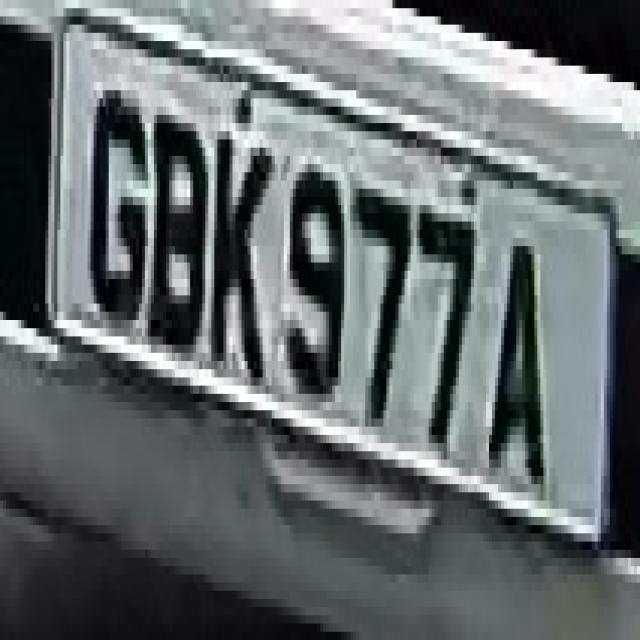7: (411, 164, 483, 501), (341, 132, 414, 460)
9: (275, 131, 350, 435)
A: (483, 172, 552, 517)
B: (145, 74, 208, 361)
G: (87, 57, 151, 353)
K: (208, 90, 266, 394)
